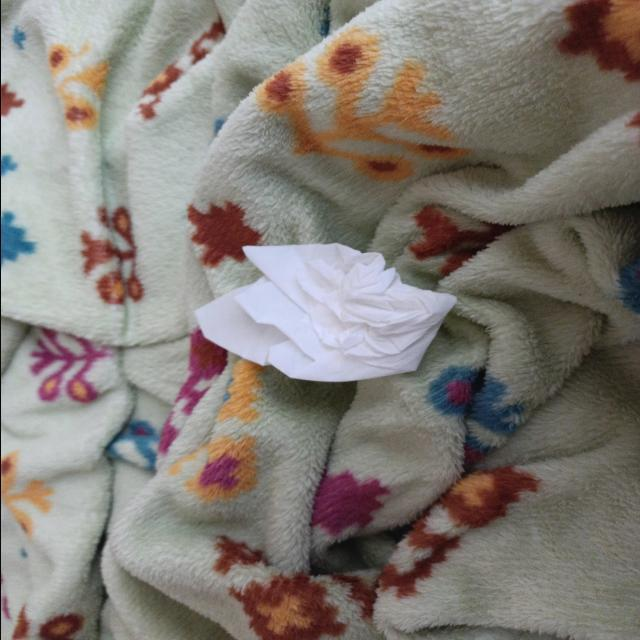Paper: (176, 234, 470, 386)
